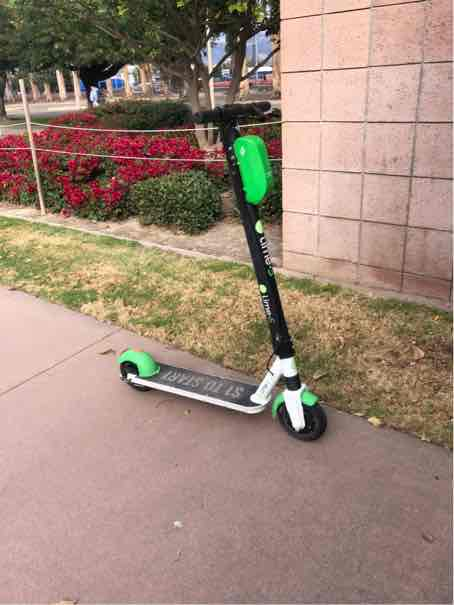scooter: (100, 100, 332, 454)
